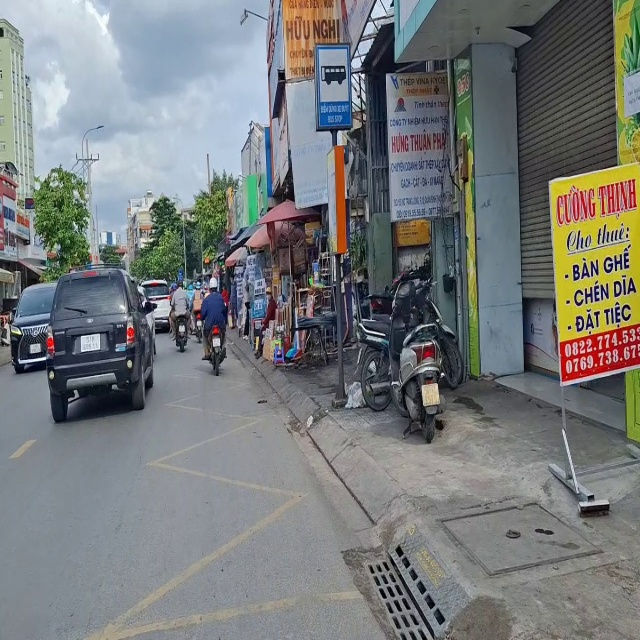xe buyt: (306, 32, 364, 143)
